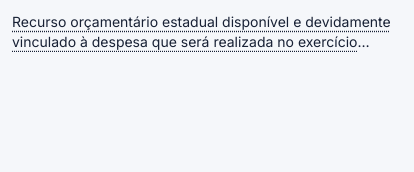
it: TextoExpansivel — modo texto › clicar em cima abre o texto inteiro; clicar de novo recolhe
Later steps or results of the test are not shown.
Click the button at (207, 32), box top-left (12, 12), bottom-right (402, 52)
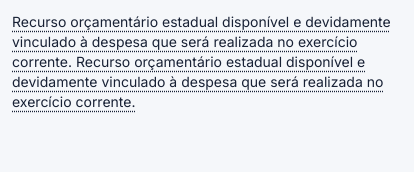
Now the button is expanded, box top-left (12, 12), bottom-right (402, 112)
